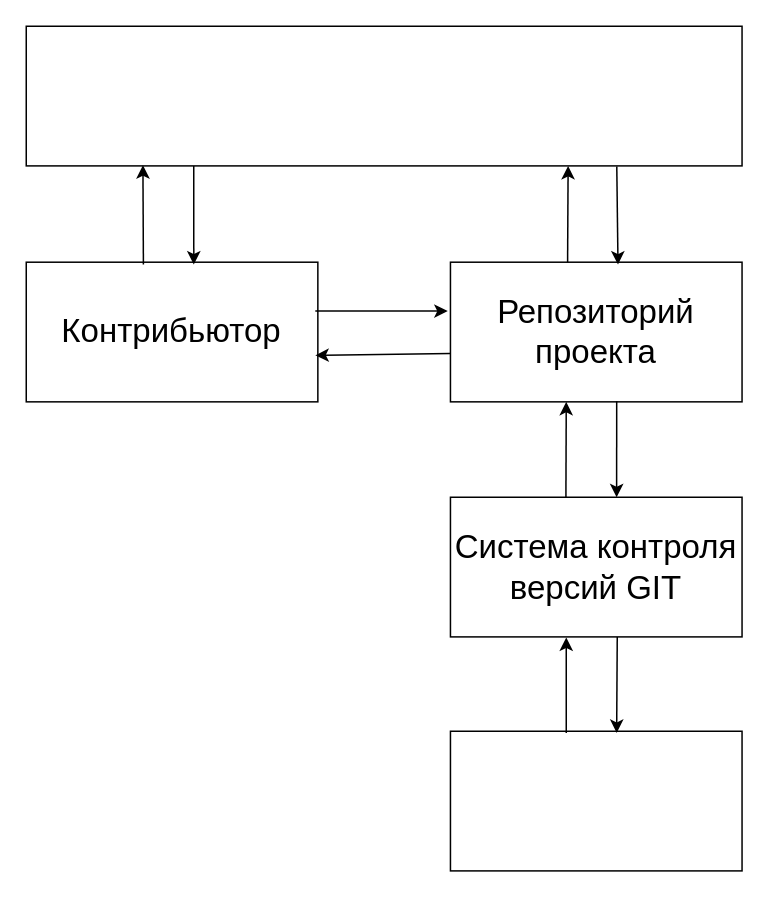
The diagram is 770 pixels wide and 899 high, and some of its shapes have lost their labels. The box of each missing label's shape, as (x1, y1, x2, y2) in pixels:
Исходный код фреймворка: (449, 730, 742, 871)
Среда: (25, 25, 742, 166)
